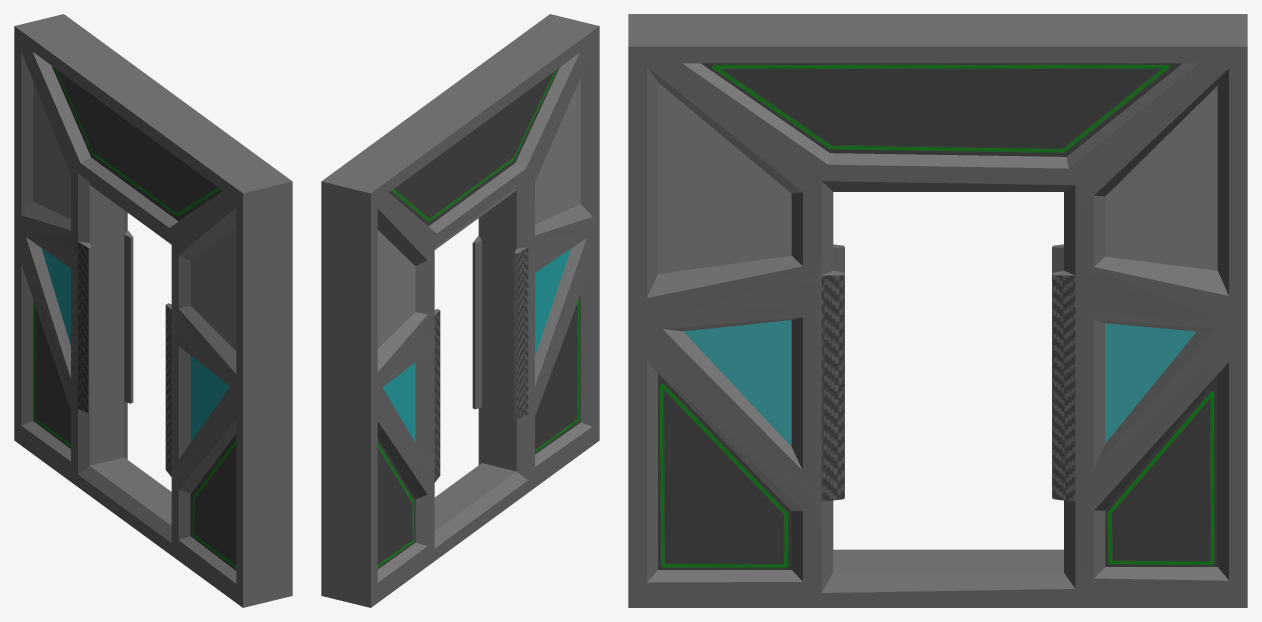
Rendered from SM_B4_Wall1_SM_B4_B.fbx.
3 views of the same model, side by side, from view 1: azimuth 30°, elevation 25°; view 2: azimuth 150°, elevation 25°; view 3: azimuth 270°, elevation 25° (orthographic). The views are drawn at different scales.
Parts seen in each view (by area): view 1: SM_B4_Wall1_SM_B4_B; view 2: SM_B4_Wall1_SM_B4_B; view 3: SM_B4_Wall1_SM_B4_B.
Boxes of the visible parts, x1=… form: SM_B4_Wall1_SM_B4_B: x1=14, y1=14, x2=292, y2=607; SM_B4_Wall1_SM_B4_B: x1=321, y1=14, x2=599, y2=607; SM_B4_Wall1_SM_B4_B: x1=628, y1=14, x2=1247, y2=607.
Bounding box in the file's own units: 50.77 × 406 × 406.
Materials: 1 (1 with a texture image).
